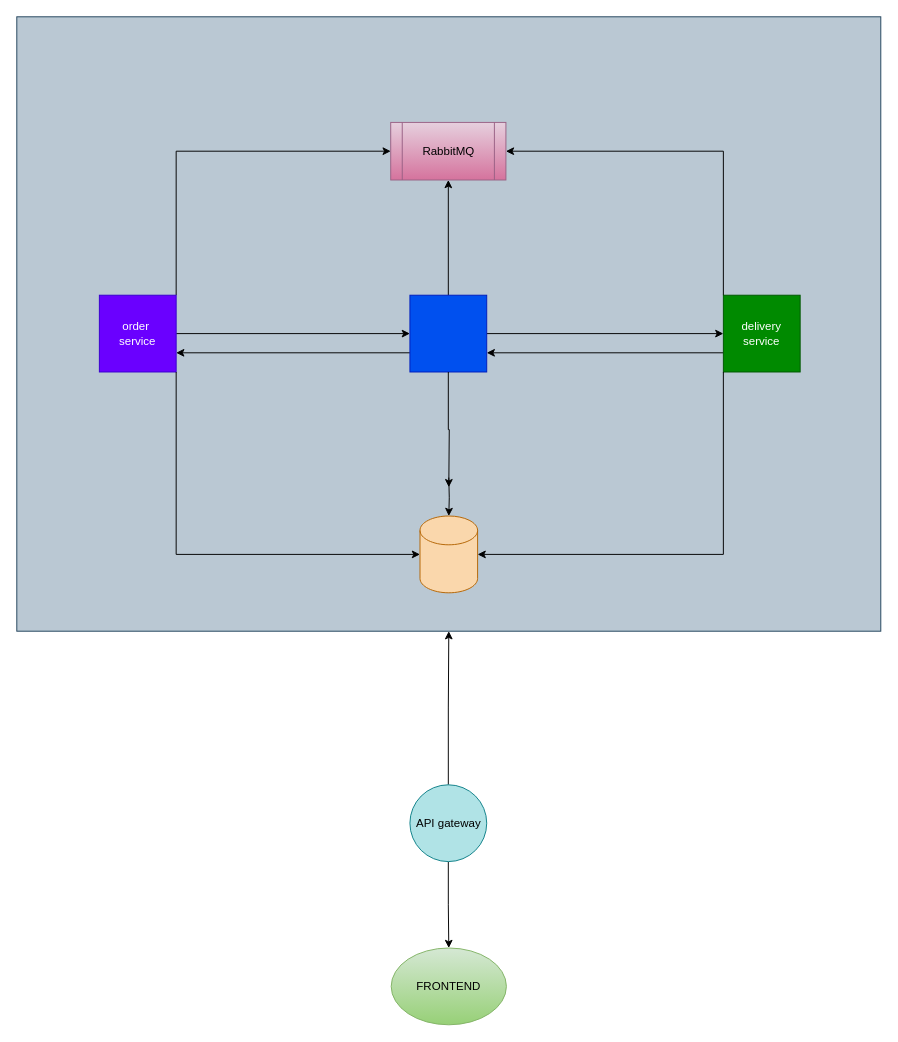
Image size: 898x1042. Some labels were removed from this diagram. Here are the shapes that lost their labels. From the top down, the box of each, then its label:
(409, 294, 487, 372): restaurant service
(419, 515, 478, 593): database
